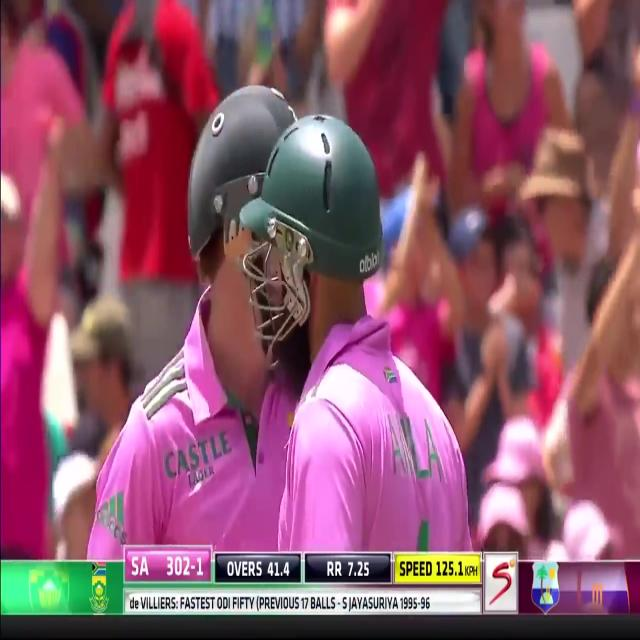Ball: (93, 88, 315, 563), (244, 114, 467, 554)
